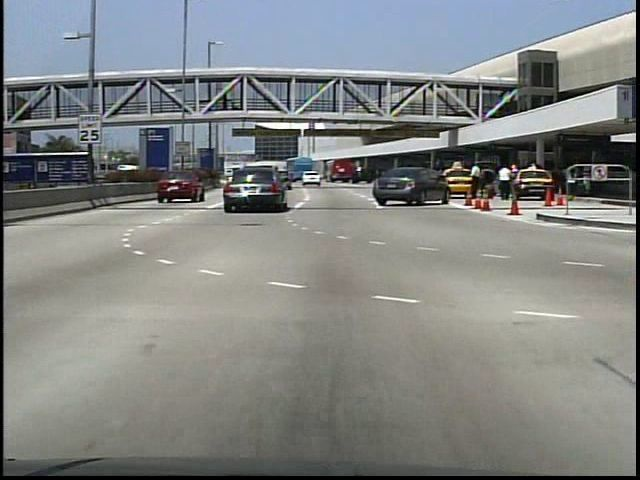person: (496, 163, 516, 203), (469, 164, 487, 205), (563, 168, 580, 205), (509, 164, 521, 201), (222, 93, 232, 114)
